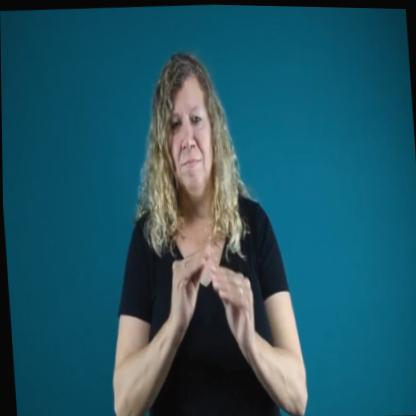Fix: (89, 45, 309, 416)
